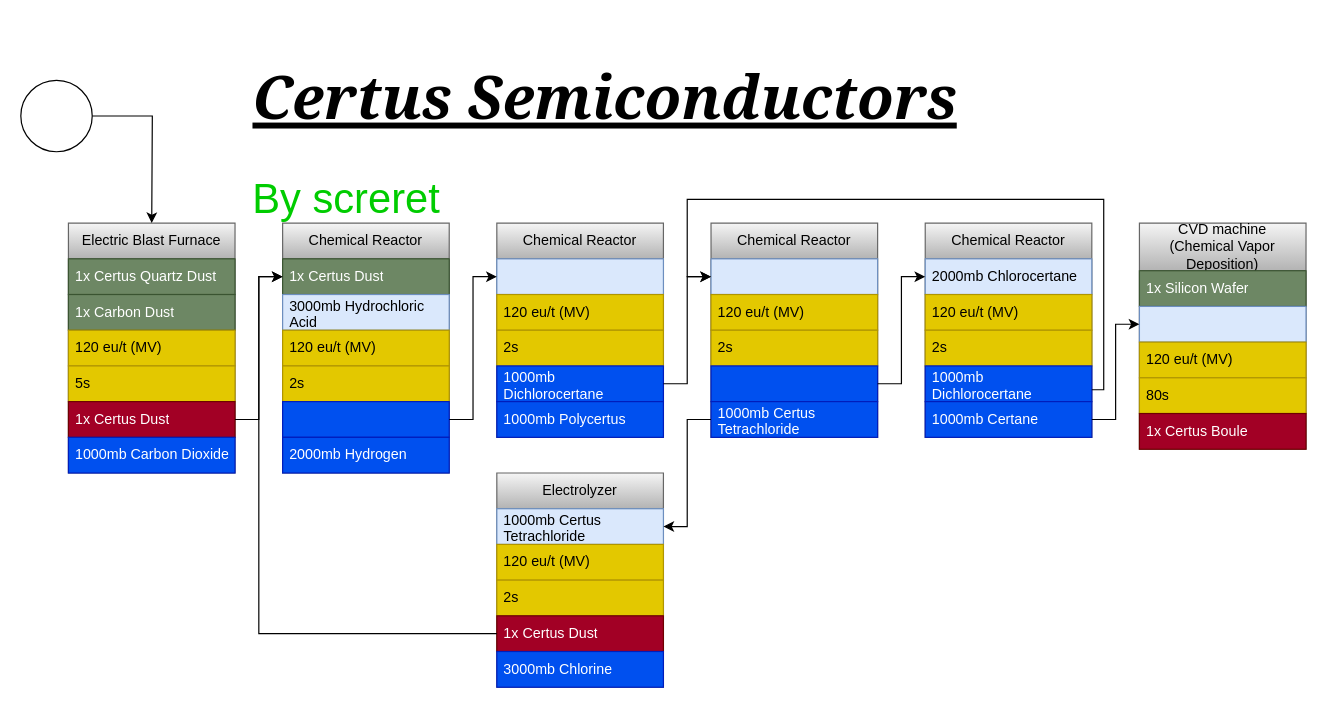
Some shapes in this 1327 by 708 pixel diagram are drawn without their labels. The centre of each missing label's shape, as x and y in pixels:
"1000mb Chlorocertane" goes at point 794,383.
"1000mb Trichlorocertane" goes at point 365,418.
"16000mb Certane" goes at point 1222,323.
"2000mb Dichlorocertane" goes at point 794,276.
"2000mb Trichlorocertane" goes at point 579,276.
"start" goes at point 56,115.
